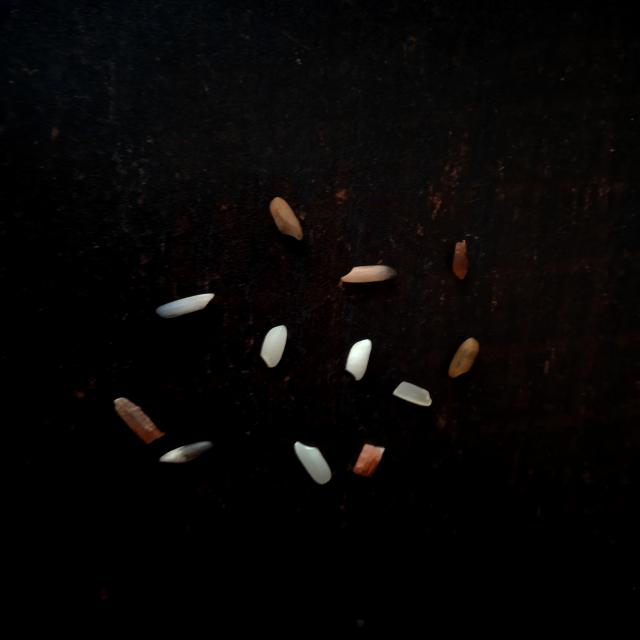Broken: (114, 397, 164, 444), (270, 197, 304, 241), (156, 294, 215, 318), (448, 338, 479, 378), (353, 444, 385, 477), (160, 442, 212, 462), (392, 381, 432, 406), (341, 265, 396, 283), (453, 240, 468, 280)
Full: (294, 442, 332, 485), (260, 325, 288, 368), (345, 338, 372, 381)
